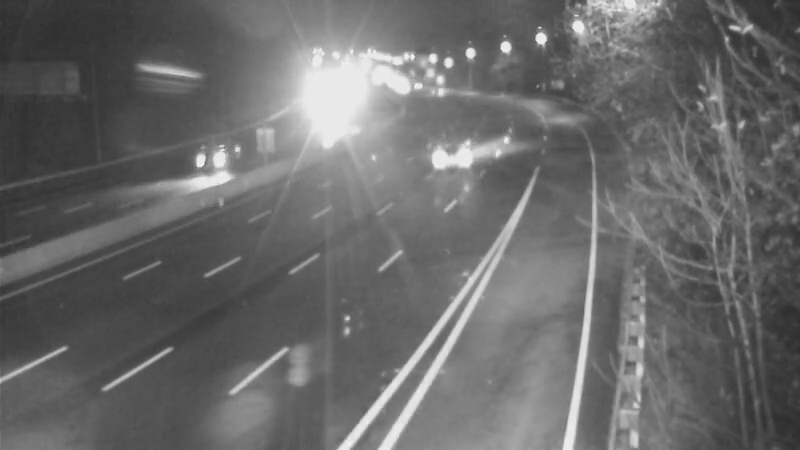vehicle: (173, 113, 253, 193), (413, 66, 463, 116), (425, 124, 475, 174)
